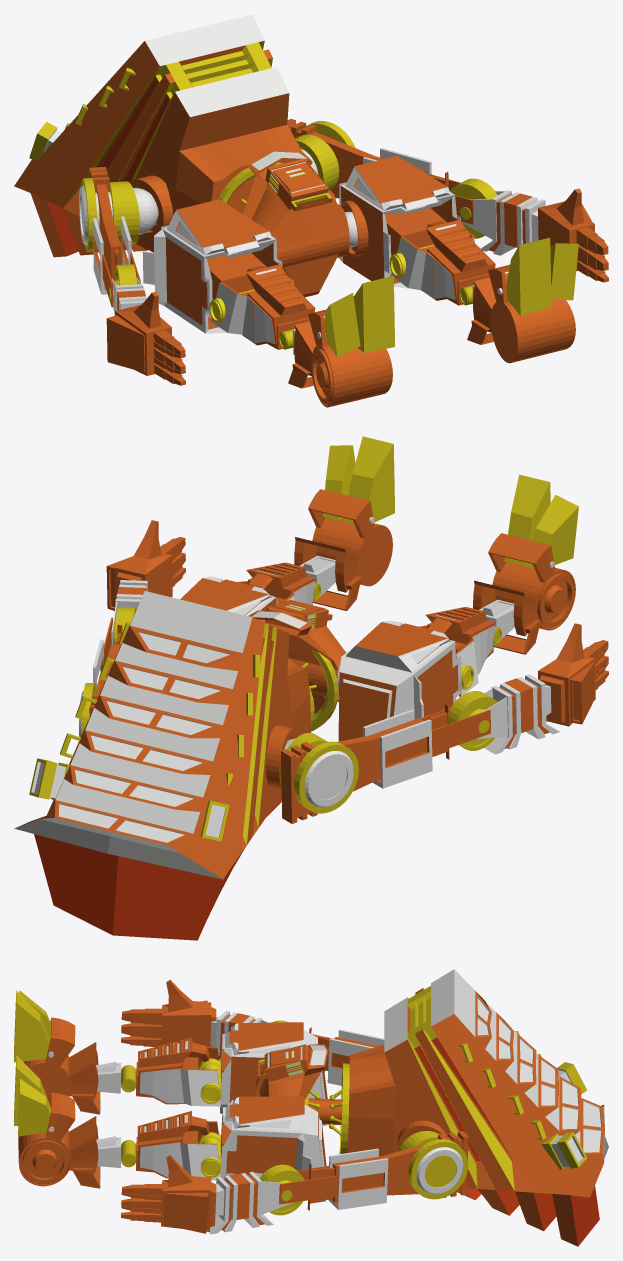
Rendered from Project-A-Mech_Full_Rigged.fbx.
3 views of the same model, one above another, from view 1: azimuth 30°, elevation 25°; view 2: azimuth 150°, elevation 25°; view 3: azimuth 270°, elevation 25° (orthographic). The views are drawn at different scales.
Parts seen in each view (by area): view 1: UpperBody, RightHip, Torso, LeftHip, LeftFoot, RightFoot, LeftShin, RightShin, RightHand.001, LeftForearm, LeftHand, RightBicep.001 (+6 smaller); view 2: UpperBody, RightHip, RightBicep.001, RightFoot, LeftFoot, RightForearm.001, Torso, RightHand.001, LeftHand, RightShin, LeftFoot.R, LeftHip (+6 smaller); view 3: UpperBody, LeftHip, LeftBicep, LeftFoot, RightHip, RightShin, RightFoot, LeftHand, LeftShin, LeftForearm, RightHand.001, Torso (+5 smaller).
Boxes of the visible parts, left/top/right/bottom form: UpperBody: left=14, top=14, right=355, bottom=257; RightHip: left=142, top=199, right=282, bottom=333; Torso: left=242, top=150, right=357, bottom=297; LeftHip: left=338, top=156, right=460, bottom=288; LeftFoot: left=467, top=264, right=575, bottom=363; RightFoot: left=288, top=309, right=392, bottom=407; LeftShin: left=391, top=219, right=495, bottom=305; RightShin: left=210, top=264, right=315, bottom=349; RightHand.001: left=106, top=291, right=185, bottom=385; LeftForearm: left=450, top=178, right=545, bottom=255; LeftHand: left=538, top=188, right=608, bottom=282; RightBicep.001: left=89, top=166, right=140, bottom=307; UpperBody: left=14, top=591, right=358, bottom=940; RightHip: left=338, top=620, right=474, bottom=741; RightBicep.001: left=281, top=704, right=490, bottom=823; RightFoot: left=473, top=533, right=575, bottom=654; LeftFoot: left=294, top=489, right=392, bottom=610; RightForearm.001: left=448, top=674, right=559, bottom=754; Torso: left=249, top=600, right=345, bottom=731; RightHand.001: left=538, top=623, right=608, bottom=726; LeftHand: left=106, top=520, right=185, bottom=610; RightShin: left=419, top=607, right=501, bottom=696; LeftFoot.R: left=343, top=436, right=394, bottom=524; LeftHip: left=180, top=576, right=278, bottom=619; UpperBody: left=308, top=969, right=608, bottom=1246; LeftHip: left=198, top=1096, right=326, bottom=1179; LeftBicep: left=279, top=1131, right=468, bottom=1210; LeftFoot: left=18, top=1092, right=121, bottom=1188; RightHip: left=198, top=1022, right=327, bottom=1125; RightShin: left=121, top=1037, right=221, bottom=1106; RightFoot: left=23, top=1017, right=121, bottom=1114; LeftHand: left=121, top=1155, right=216, bottom=1233; LeftShin: left=121, top=1111, right=220, bottom=1180; LeftForearm: left=209, top=1164, right=304, bottom=1234; RightHand.001: left=121, top=980, right=216, bottom=1047; Torso: left=258, top=1044, right=328, bottom=1118.
Size of the model in its own units: 833 by 451 by 1065.
